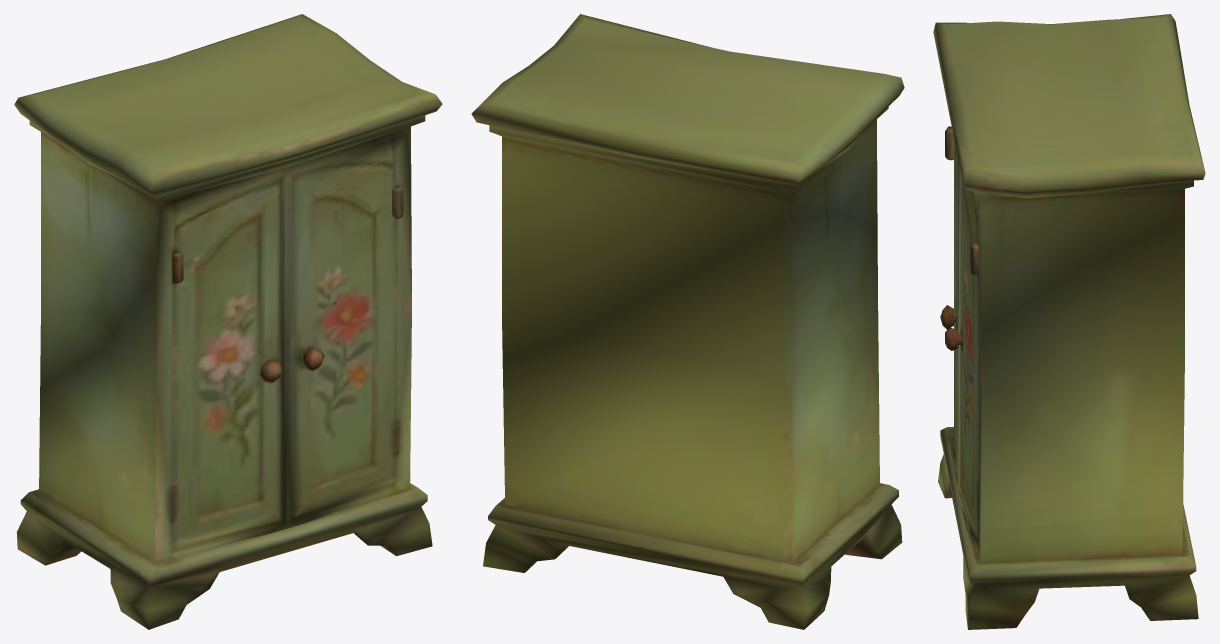
File: wyn_furn_painted_wardrobe.glb
3 views of the same model, side by side, from view 1: azimuth 30°, elevation 25°; view 2: azimuth 150°, elevation 25°; view 3: azimuth 270°, elevation 25° (orthographic). The views are drawn at different scales.
Parts seen in each view (by area): view 1: tripo_node_77bb0951-31c7-4e48-b81e-1587d2df90dd; view 2: tripo_node_77bb0951-31c7-4e48-b81e-1587d2df90dd; view 3: tripo_node_77bb0951-31c7-4e48-b81e-1587d2df90dd.
Boxes of the visible parts, x1,y1,x2,y2 form: tripo_node_77bb0951-31c7-4e48-b81e-1587d2df90dd: (14, 14, 442, 629); tripo_node_77bb0951-31c7-4e48-b81e-1587d2df90dd: (471, 14, 904, 629); tripo_node_77bb0951-31c7-4e48-b81e-1587d2df90dd: (933, 14, 1205, 629).
Bounding box in the file's own units: 1.5 × 2 × 1.06.
Materials: 1 (1 with a texture image).
